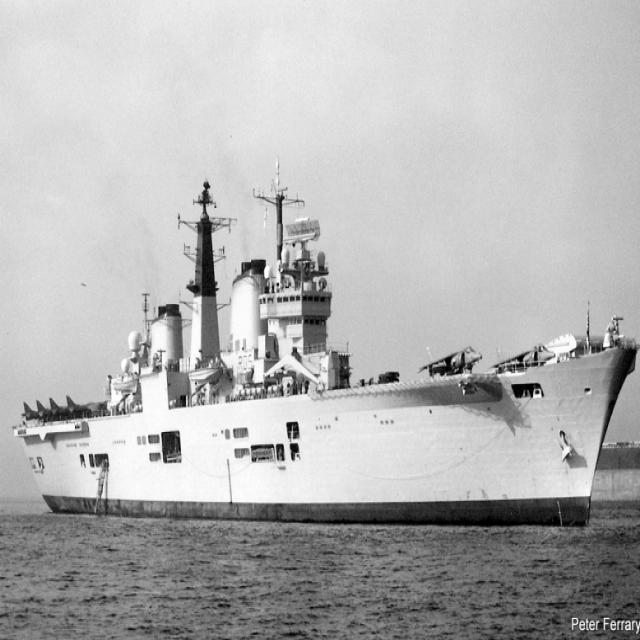Portanaves: (14, 154, 640, 549)
